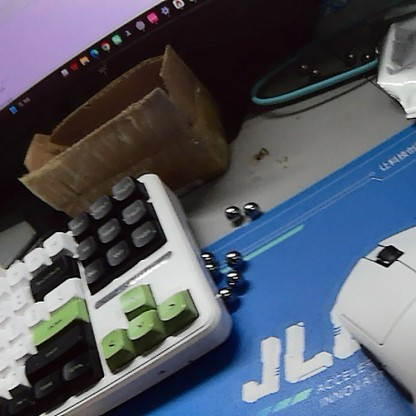ironball: (220, 244, 245, 273), (221, 201, 241, 228), (220, 266, 241, 291), (198, 258, 218, 278), (240, 198, 261, 217), (195, 248, 217, 265), (218, 285, 236, 305), (291, 59, 310, 74), (357, 50, 371, 67), (343, 49, 355, 68), (306, 65, 321, 79), (368, 45, 381, 59)
